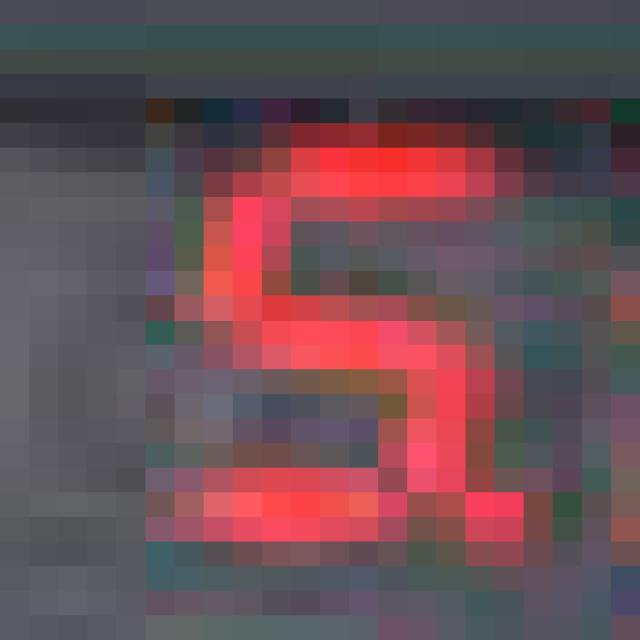.: (466, 478, 546, 568)
5: (138, 104, 608, 596)
